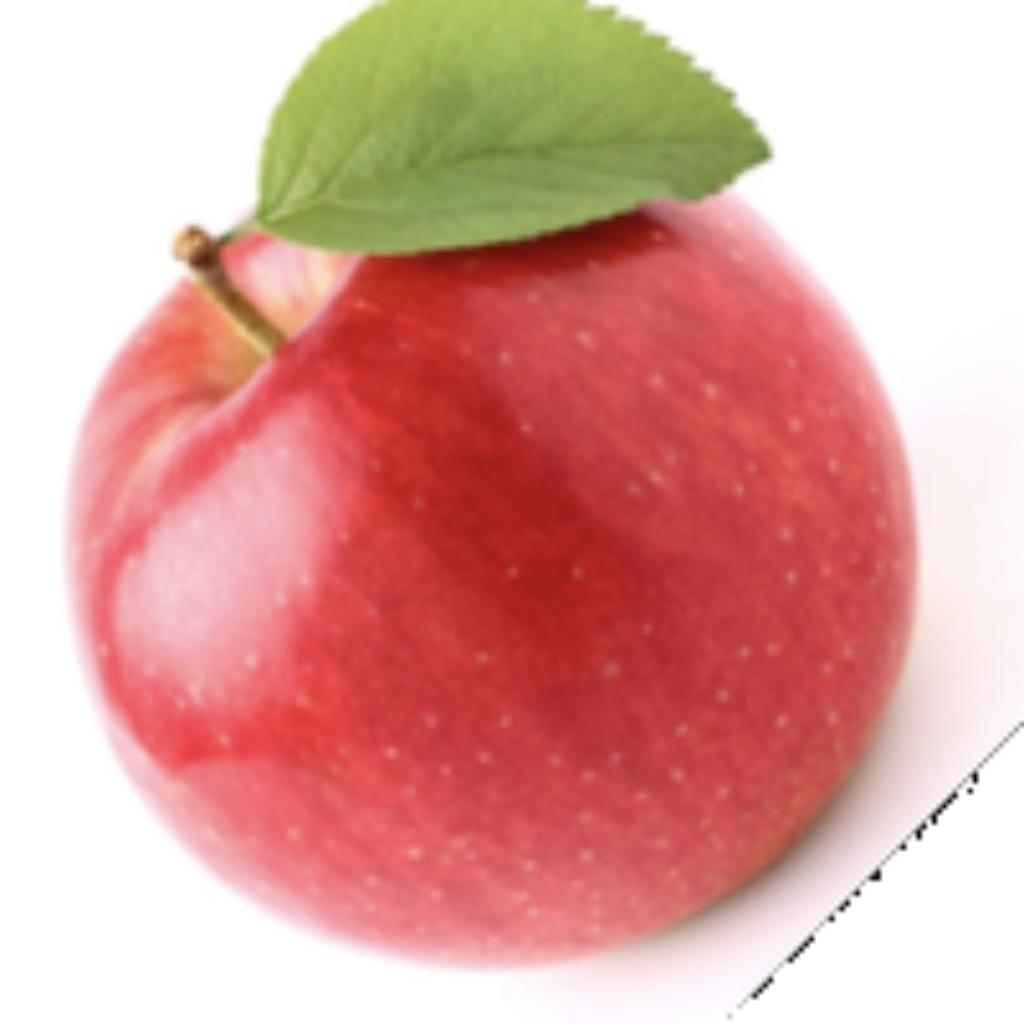apple: (56, 7, 937, 983)
